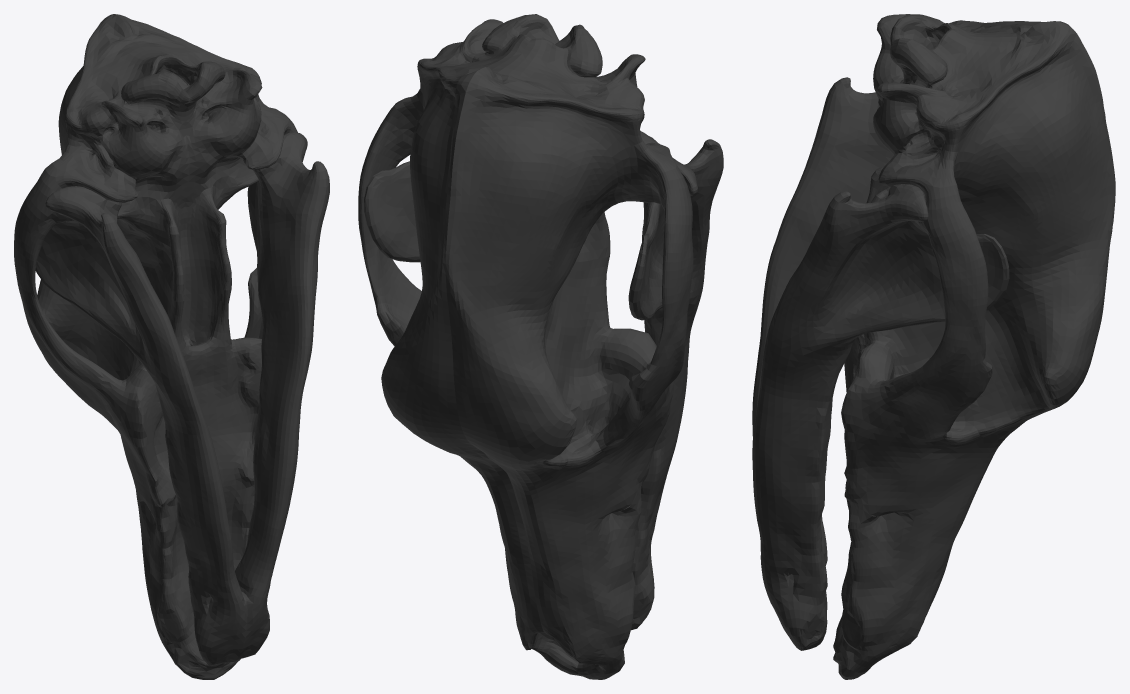
File: B_Skull.glb
3 renders of one model, left to right at view 1: azimuth 30°, elevation 25°; view 2: azimuth 150°, elevation 25°; view 3: azimuth 270°, elevation 25°, orthographic. The views are drawn at different scales.
Parts seen in each view (by area): view 1: B_Skull; view 2: B_Skull; view 3: B_Skull.
Part boxes in pixels (x1,y1,x2,y2): B_Skull: (14, 14, 329, 679); B_Skull: (358, 14, 723, 679); B_Skull: (752, 14, 1115, 679).
Size of the model in its own units: 0.00562 by 0.0115 by 0.00577.
1 material, 1 textured.
